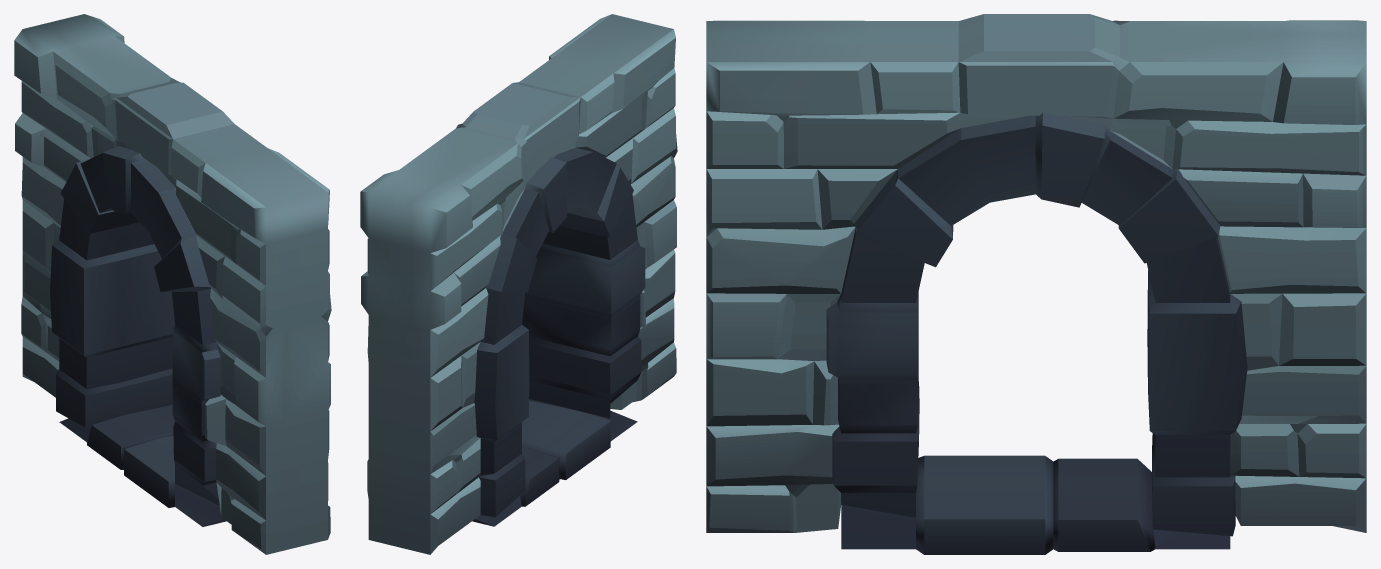
Rendered from Modular_Dungeon_Wall_DoorFrame.fbx.
3 views of the same model, side by side, from view 1: azimuth 30°, elevation 25°; view 2: azimuth 150°, elevation 25°; view 3: azimuth 270°, elevation 25° (orthographic). The views are drawn at different scales.
Parts seen in each view (by area): view 1: Wall_DoorFrame; view 2: Wall_DoorFrame; view 3: Wall_DoorFrame.
Boxes of the visible parts, <box> form: Wall_DoorFrame: <box>14,14,331,554</box>; Wall_DoorFrame: <box>360,14,677,554</box>; Wall_DoorFrame: <box>706,14,1366,554</box>.
Size of the model in its own units: 1.54 by 5.11 by 6.24.
1 material, 1 textured.
